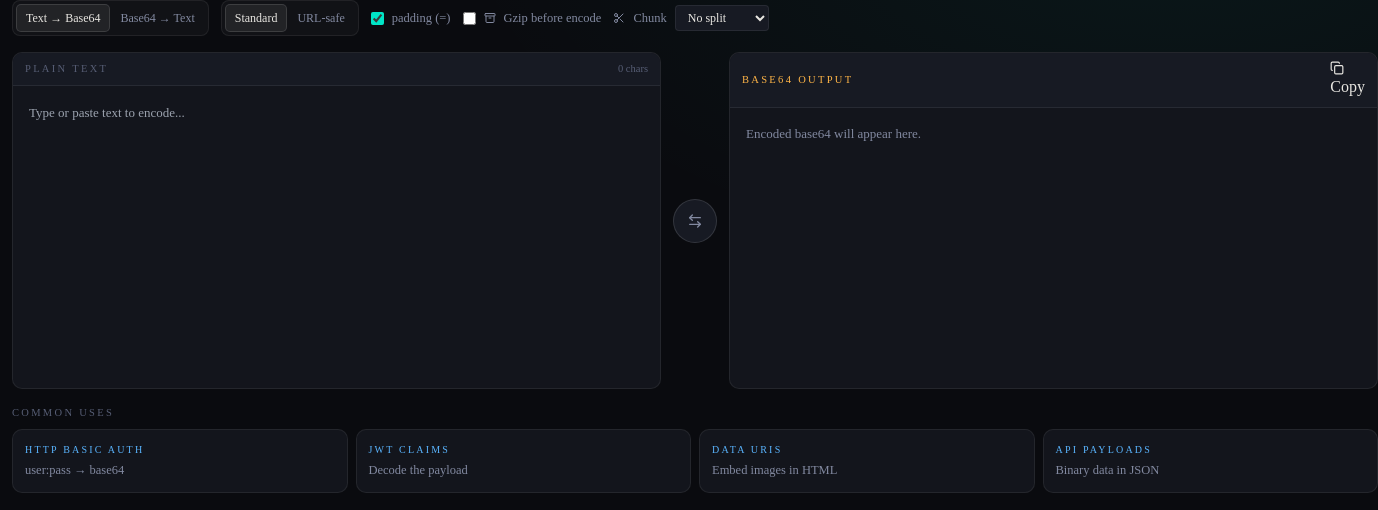
Test: TextTab switches › exposes invalid base64 through an alert
Click the button "Base64 → Text" at [158, 18], box [110, 4, 205, 32]
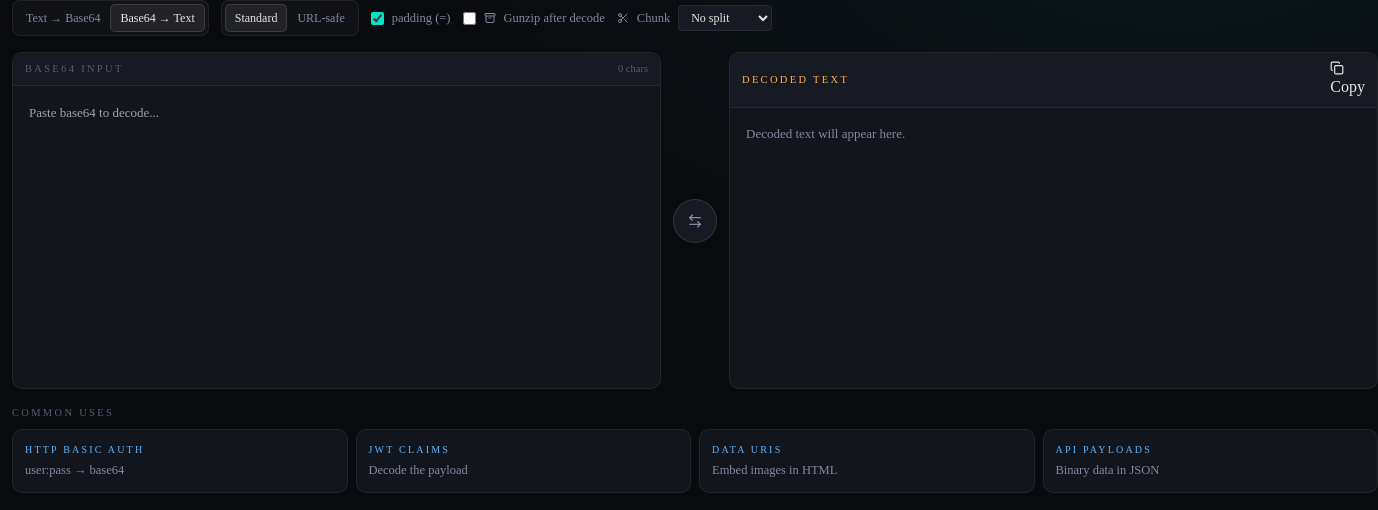
Type "SGVs!bG8=" into the text box labelled "base64 to decode" at [336, 237], box [13, 86, 660, 388]
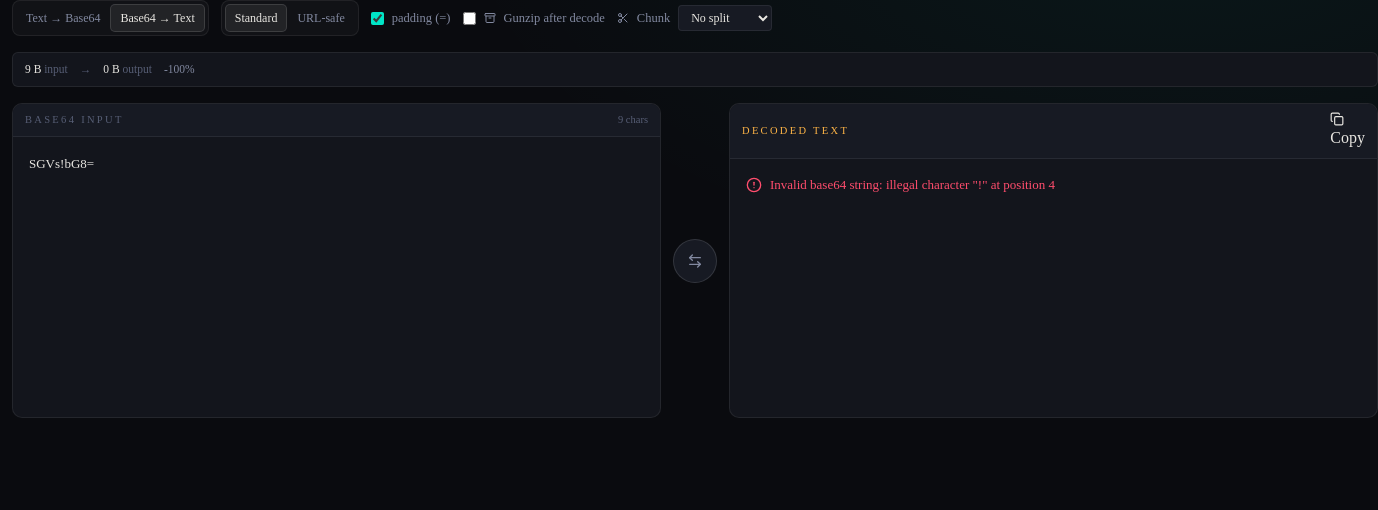
Result: the message shows "Invalid base64" at [770, 177, 1055, 192]
